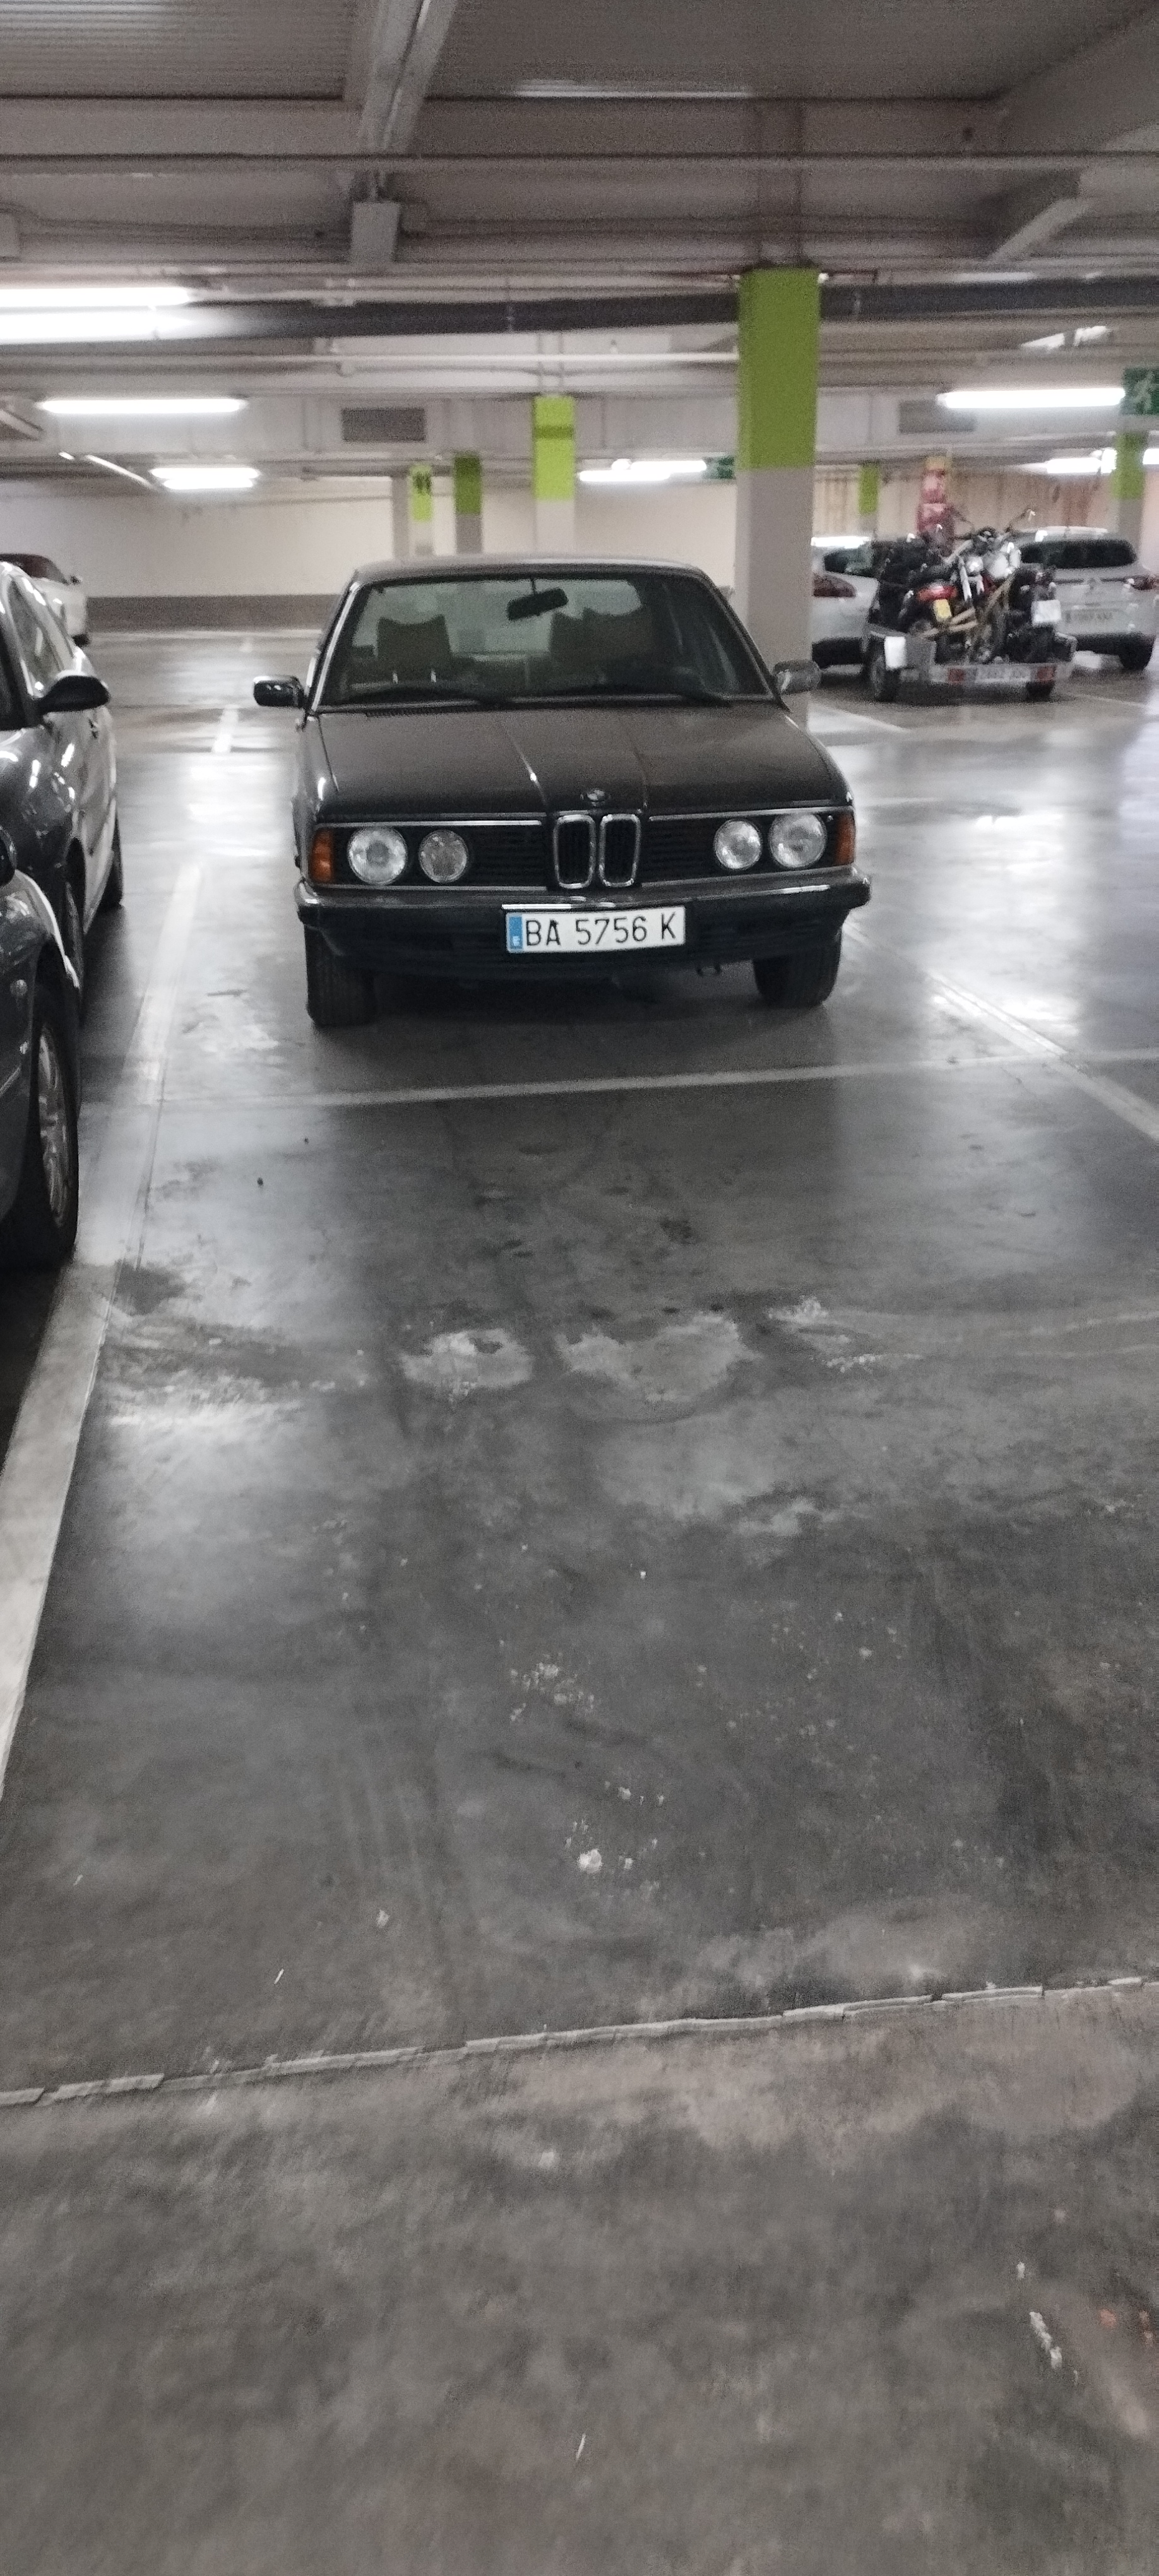Car: (294, 548, 862, 1032)
Plate: (500, 910, 686, 954)
